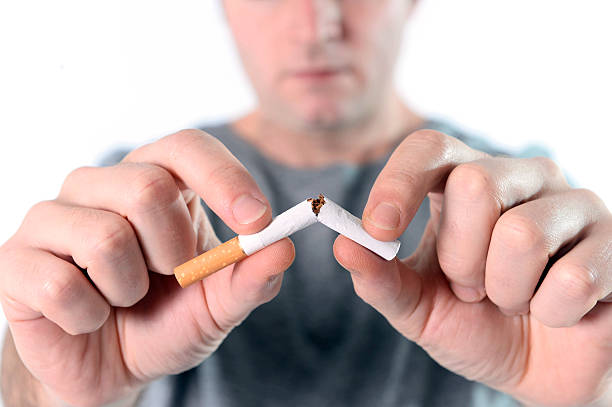cigarette: (172, 196, 402, 286)
